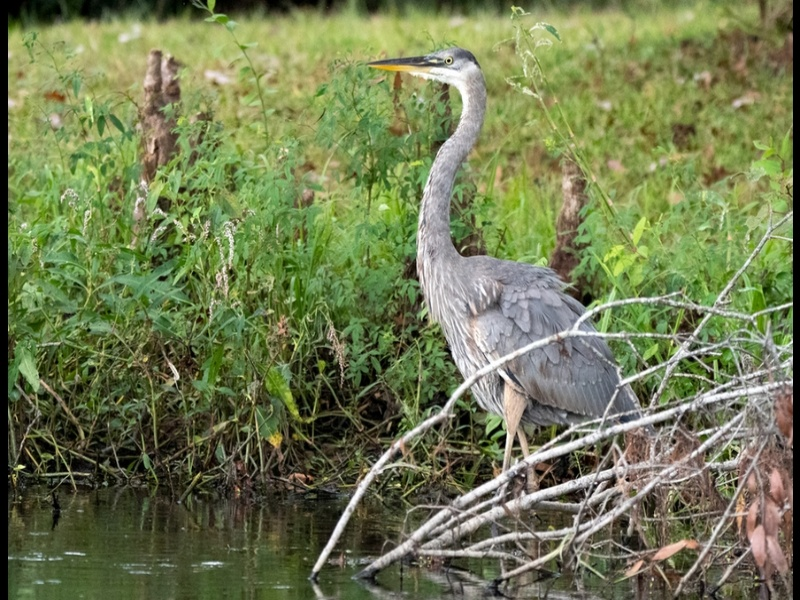heron: (367, 46, 641, 522)
